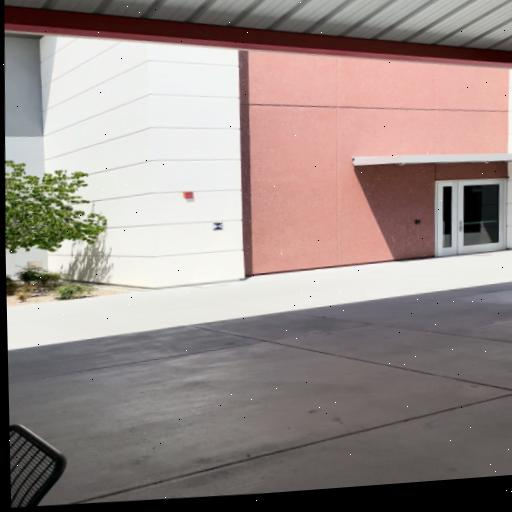target6: (212, 223, 224, 230)
